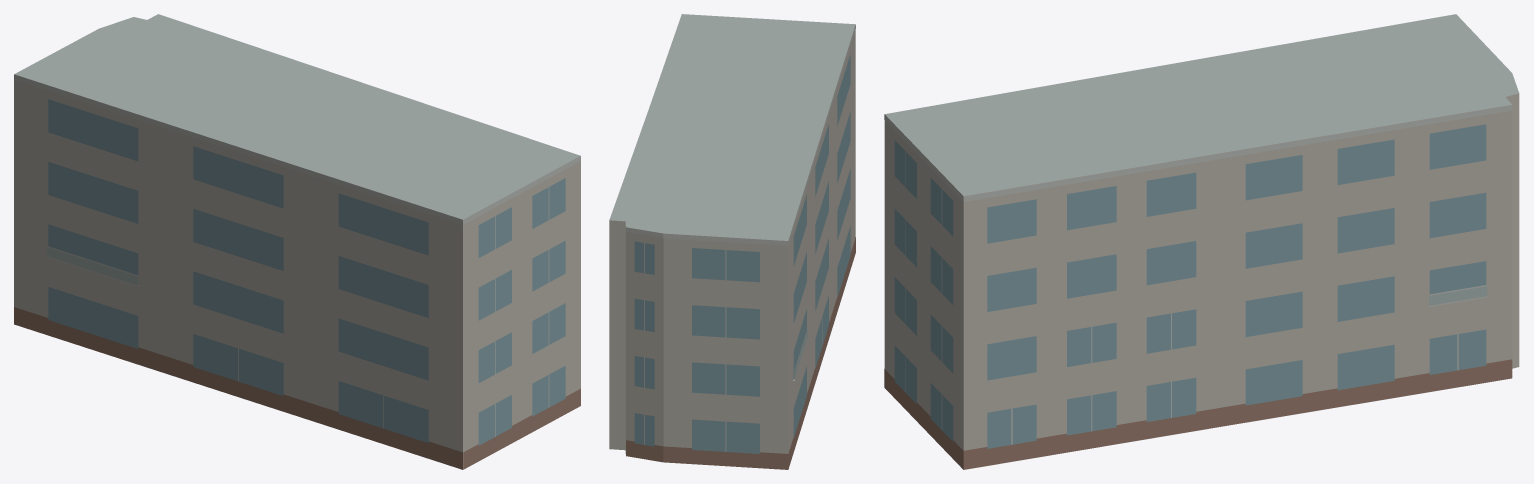
Rendered from survey-upis-32616964.glb.
The picture shows the model from 3 angles, left to right: view 1: azimuth 30°, elevation 25°; view 2: azimuth 150°, elevation 25°; view 3: azimuth 270°, elevation 25°; orthographic projection. The views are drawn at different scales.
Parts seen in each view (by area): view 1: survey-upis-32616964.tmp; view 2: survey-upis-32616964.tmp; view 3: survey-upis-32616964.tmp.
Boxes of the visible parts, x1,y1,x2,y2 form: survey-upis-32616964.tmp: (14,14,580,469); survey-upis-32616964.tmp: (609,14,855,469); survey-upis-32616964.tmp: (884,14,1519,469).
Size of the model in its own units: 16.59 by 11.6 by 24.4.
